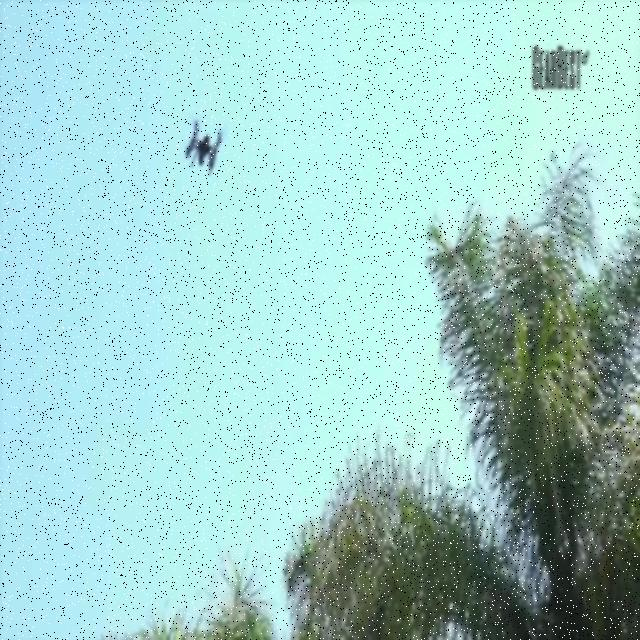UAV: (186, 121, 222, 176)
